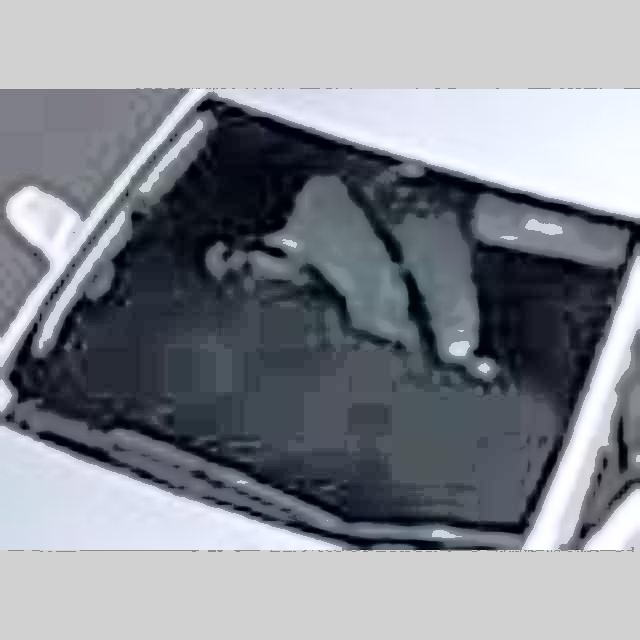pakai: (228, 149, 472, 376)
